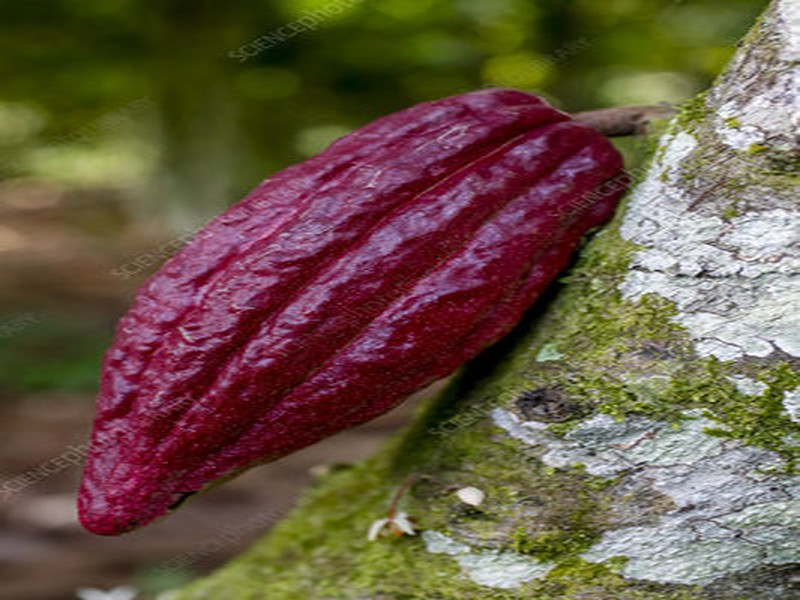Cacaopod: (78, 92, 615, 534)
